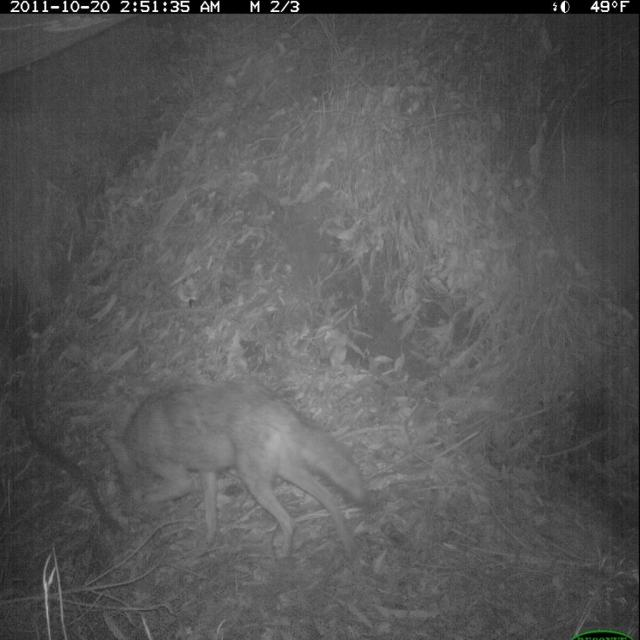coyote: (93, 377, 368, 559)
